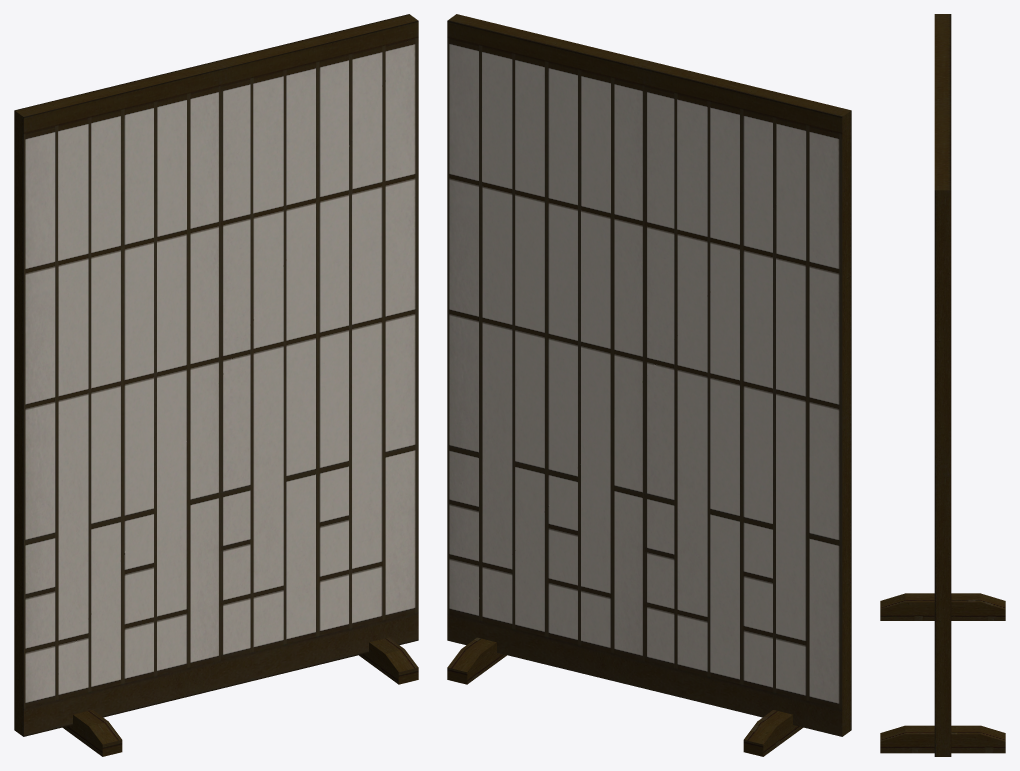
File: Japanese screen (narrow).dae
The picture shows the model from 3 angles, left to right: view 1: azimuth 30°, elevation 25°; view 2: azimuth 150°, elevation 25°; view 3: azimuth 270°, elevation 25°; orthographic projection. The views are drawn at different scales.
Visible parts, largest first — view 1: Japanese screen; view 2: Japanese screen; view 3: Japanese screen.
Boxes of the visible parts, box(x1,y1,x2,y2) form: Japanese screen: box(14, 14, 418, 756); Japanese screen: box(447, 14, 851, 756); Japanese screen: box(880, 14, 1005, 756).
Bounding box in the file's own units: 2 × 0.6 × 3.05.
Materials: 1 (1 with a texture image).
